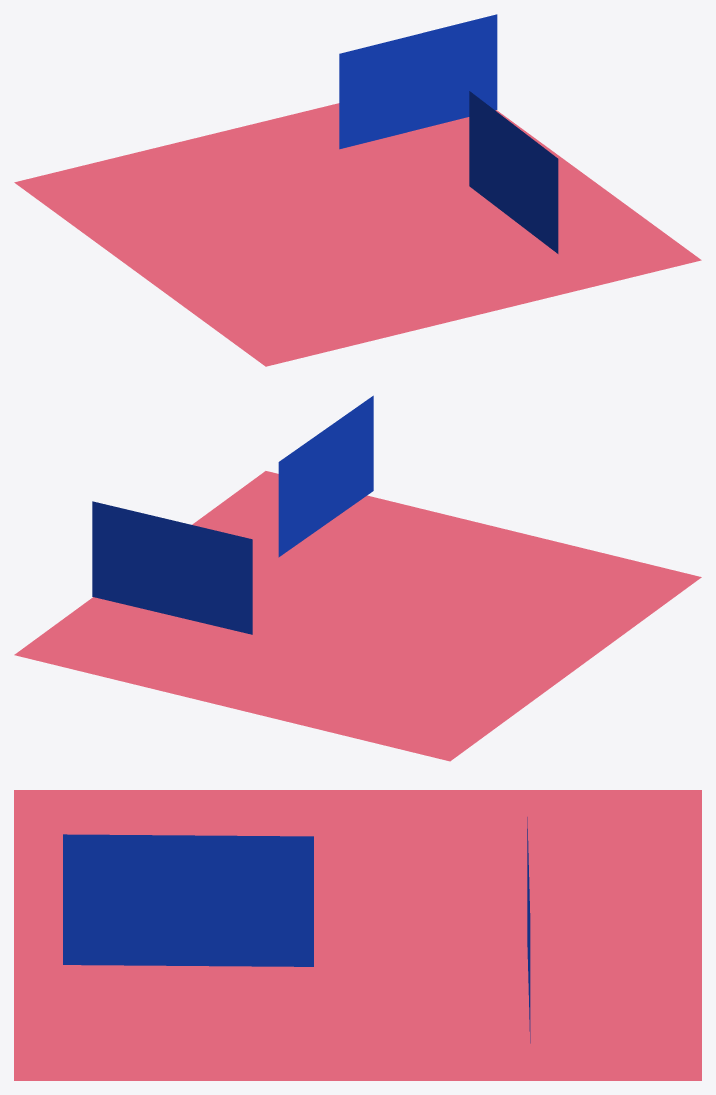
File: galeria.glb
3 renders of one model, top to bottom at view 1: azimuth 30°, elevation 25°; view 2: azimuth 150°, elevation 25°; view 3: azimuth 270°, elevation 25°, orthographic. The views are drawn at different scales.
Visible parts, largest first — view 1: Plane, 1, 2; view 2: Plane, 1, 2; view 3: Plane, 2, 1.
Part boxes in pixels (x1,y1,x2,y2): Plane: [14, 103, 701, 366]; 1: [339, 14, 497, 149]; 2: [469, 91, 558, 253]; Plane: [14, 471, 701, 761]; 1: [92, 501, 252, 634]; 2: [278, 395, 373, 557]; Plane: [14, 790, 701, 1080]; 2: [63, 834, 313, 966]; 1: [527, 817, 530, 1043].
Bounding box in the file's own units: 17.06 × 4.45 × 17.06.
